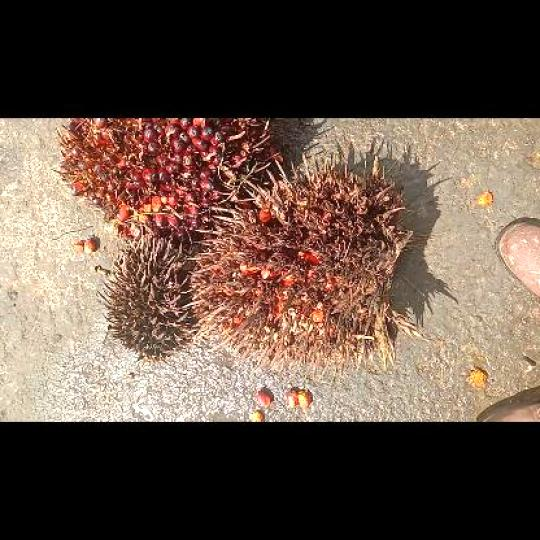masak: (52, 118, 270, 238)
terlalu masak: (184, 153, 413, 379)
